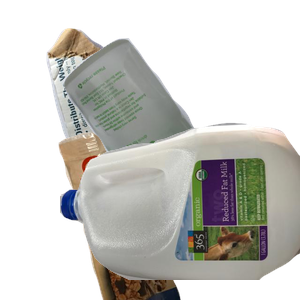cardboard: (44, 26, 209, 186)
glass: (60, 36, 300, 216)
plastic: (60, 120, 300, 300)
trash: (56, 120, 229, 300)
